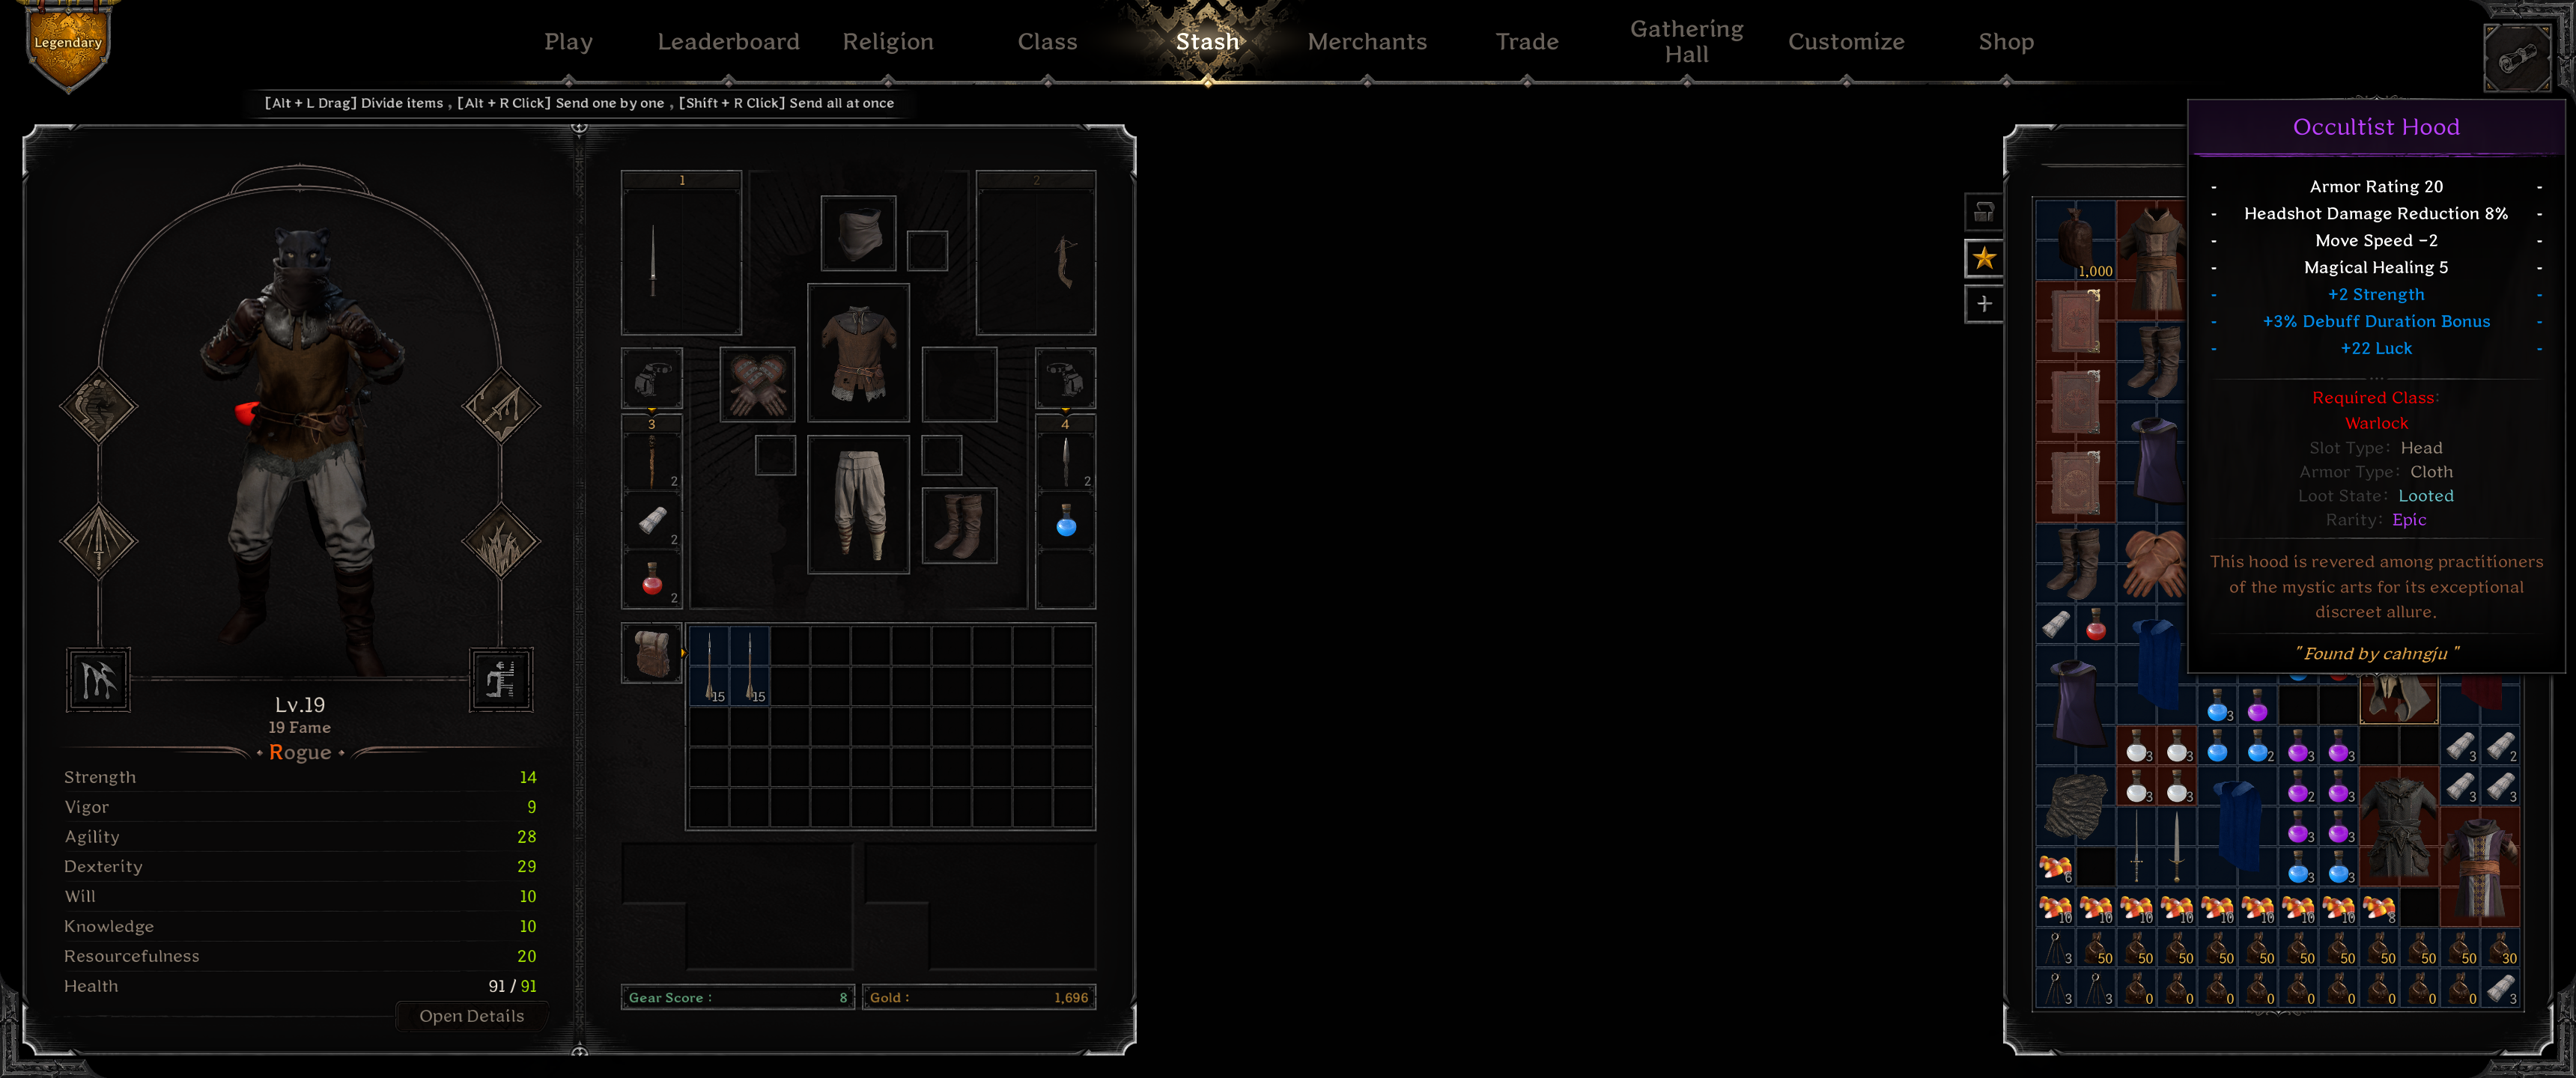Tooltip: (2185, 97, 2568, 675)
